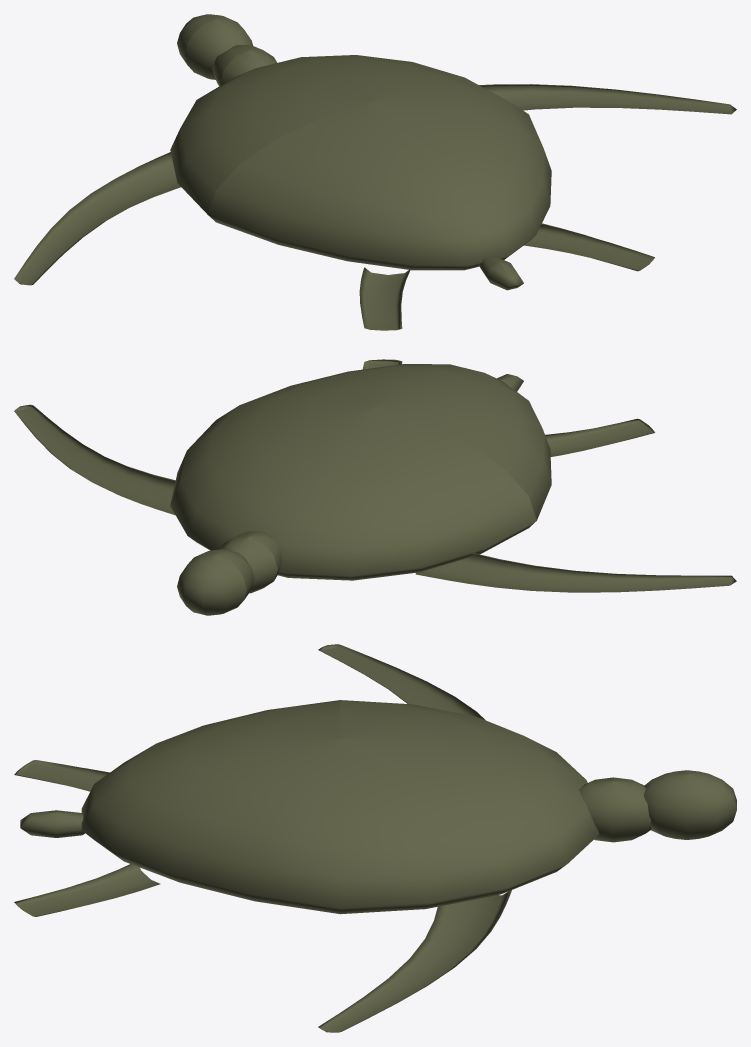
Rendered from chelonia-mydas_placeholder.glb.
The picture shows the model from 3 angles, top to bottom: view 1: azimuth 30°, elevation 25°; view 2: azimuth 150°, elevation 25°; view 3: azimuth 270°, elevation 25°; orthographic projection. The views are drawn at different scales.
Visible parts, largest first — view 1: turtle-placeholder; view 2: turtle-placeholder; view 3: turtle-placeholder.
Part boxes in pixels (x1,y1,x2,y2): turtle-placeholder: (14, 14, 736, 330); turtle-placeholder: (14, 359, 736, 615); turtle-placeholder: (14, 644, 736, 1032).
Bounding box in the file's own units: 1.74 × 0.24 × 1.38.
